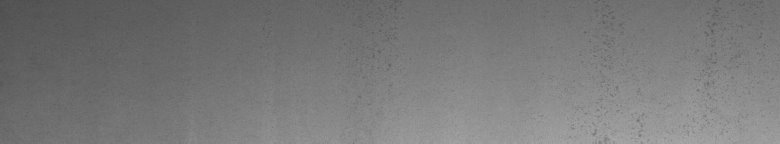ib: (571, 8, 740, 136)
